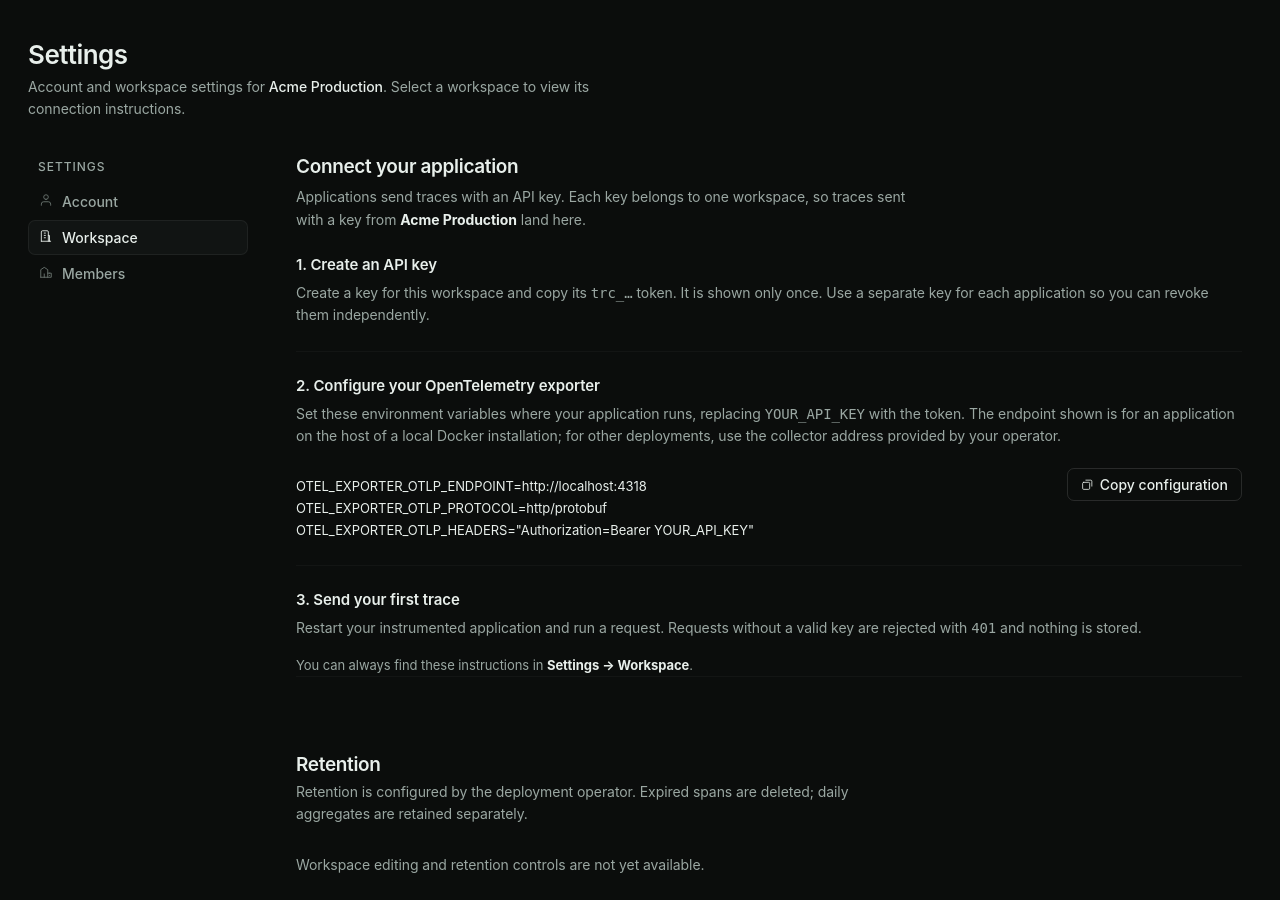
change password › submits the current and new password, keeps the renewed session and shows confirmation
This screenshot has width=1280, height=900.
Click the button "Account" at (138, 202), box [28,184,248,219]
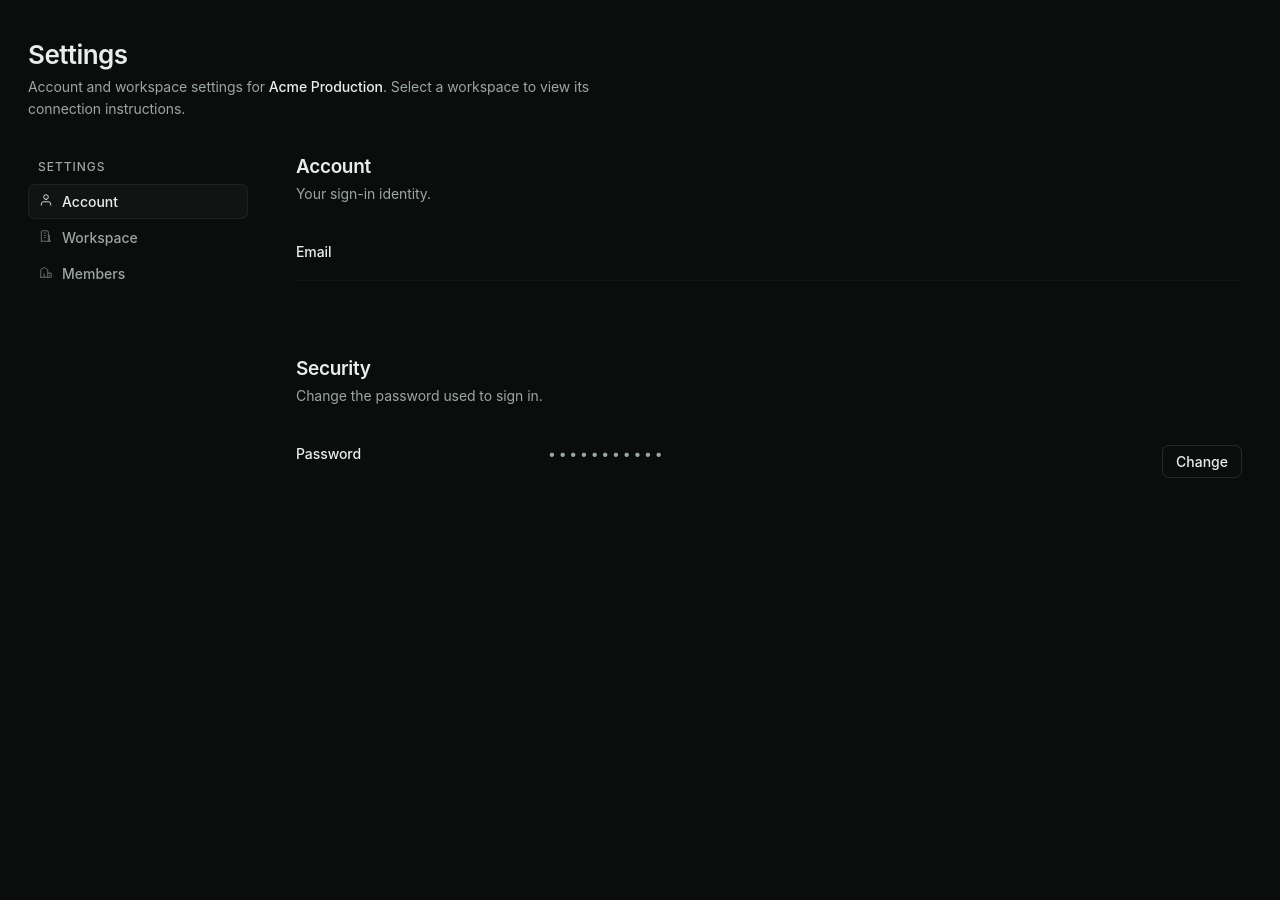
Click the button "Change" at (1202, 461), box [1162,445,1242,478]
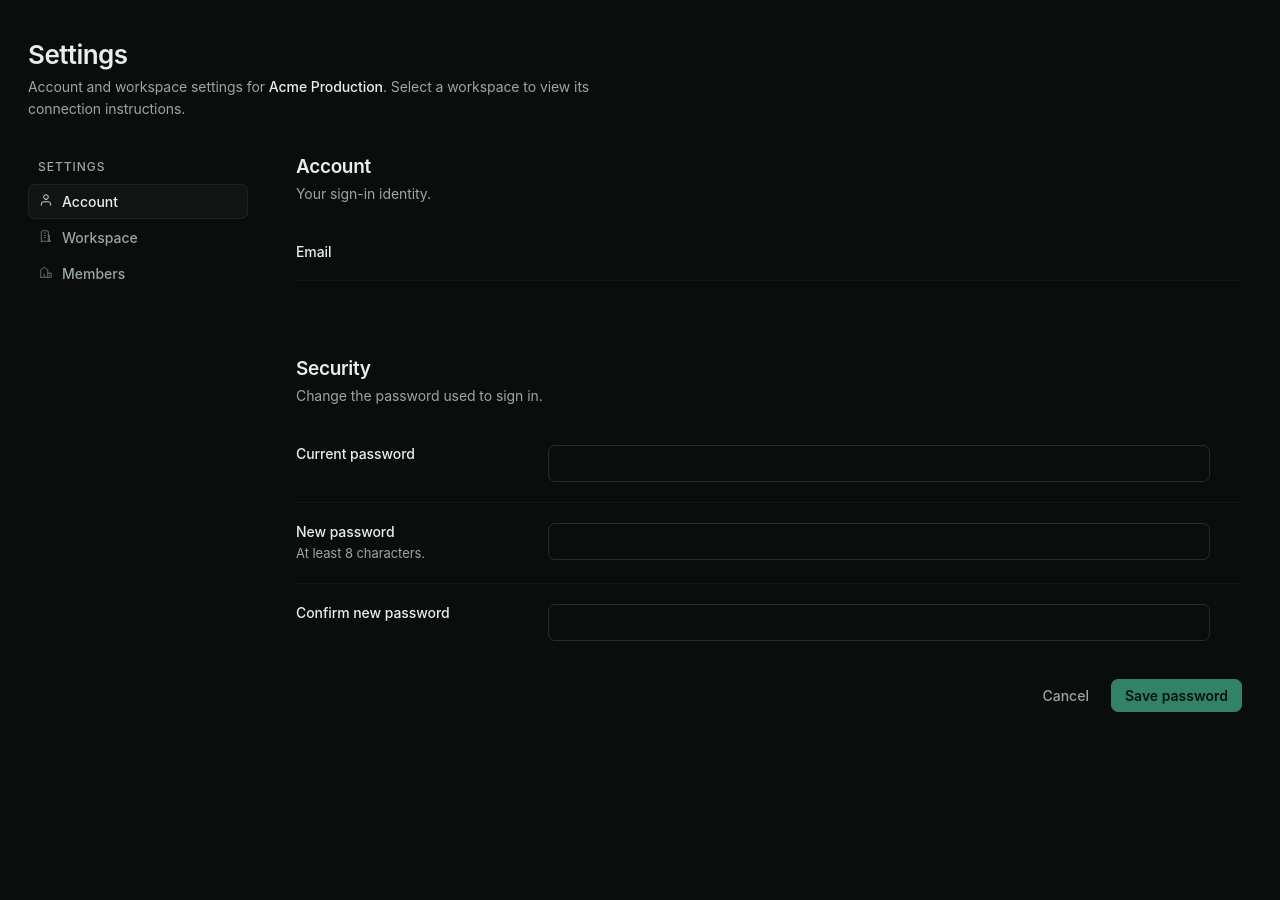
Type "old-pass" into the password field named "Current password" at (879, 463), box [560,446,1198,481]
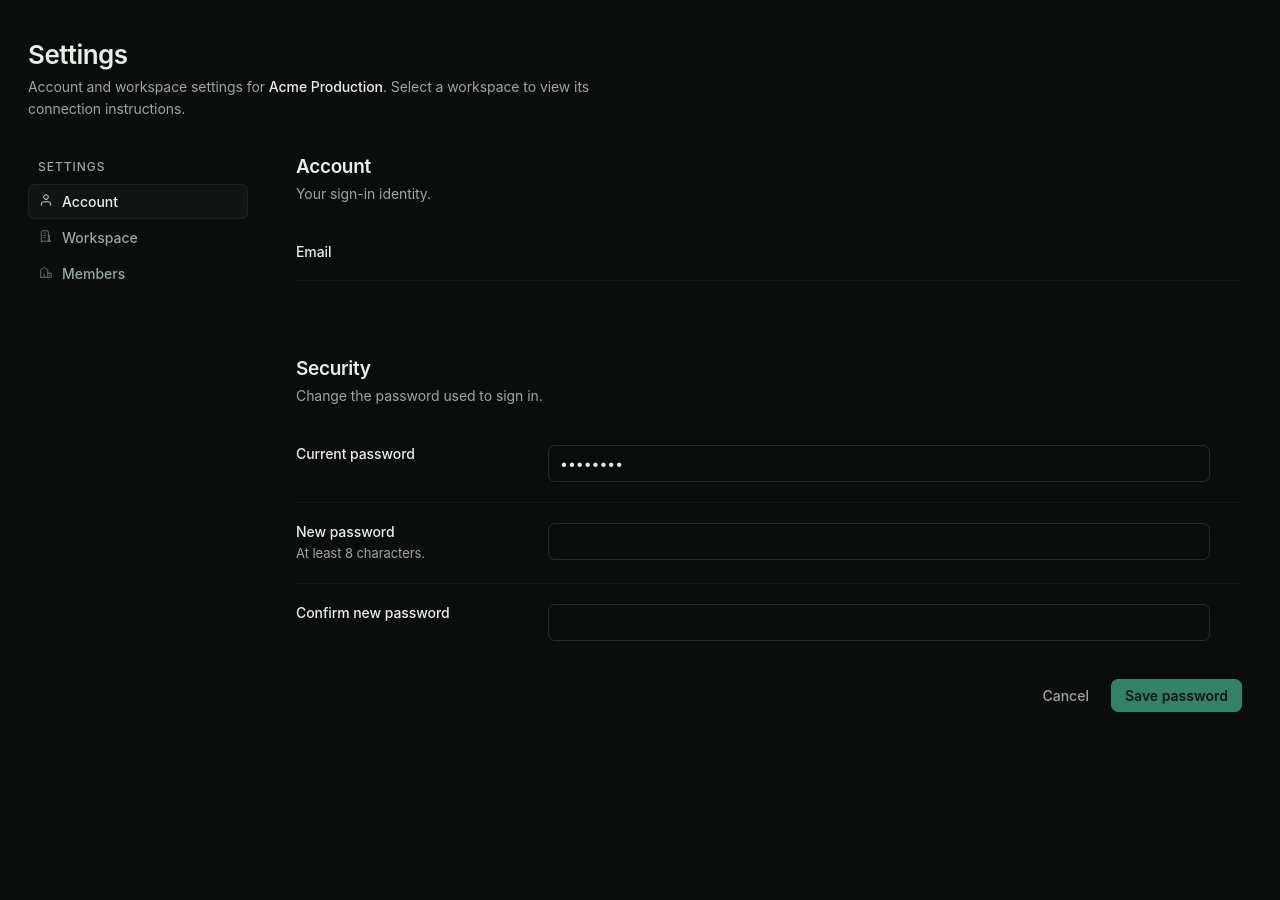
Type "new-password" into the password field named "New password" at (879, 541), box [560,524,1198,559]
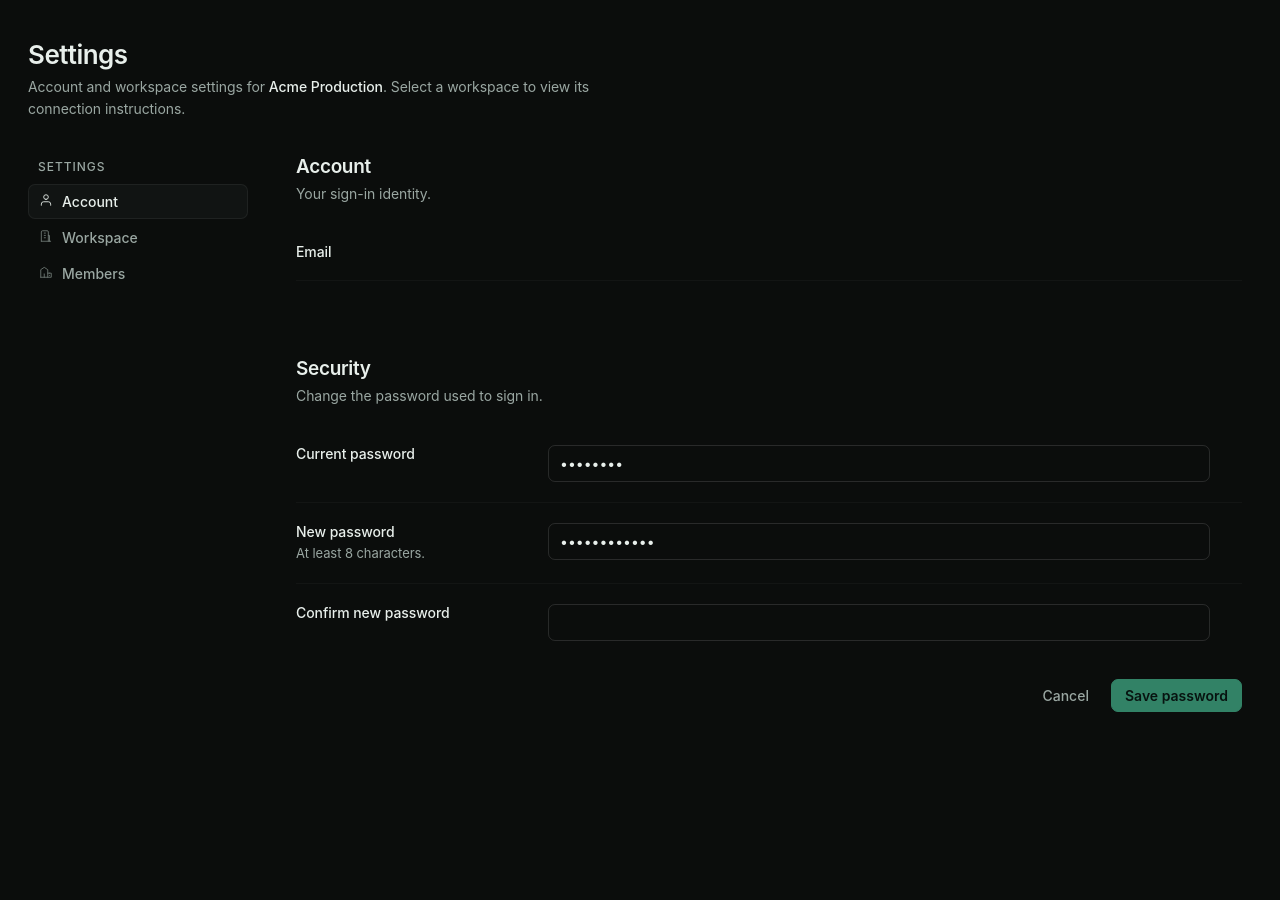
Type "new-password" into the password field named "Confirm new password" at (879, 623), box [560,605,1198,640]
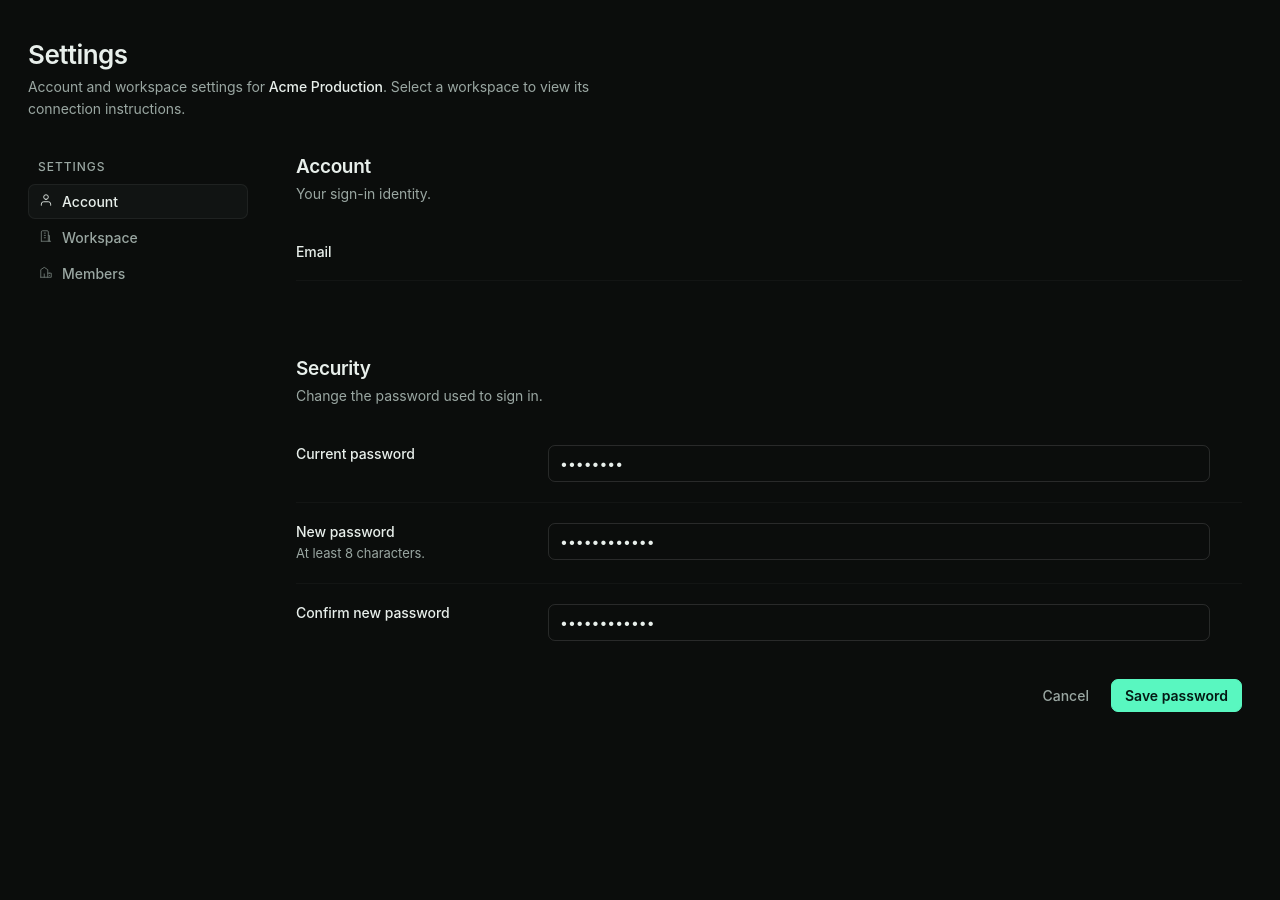
Click the button "Save password" at (1176, 696), box [1111,679,1242,712]
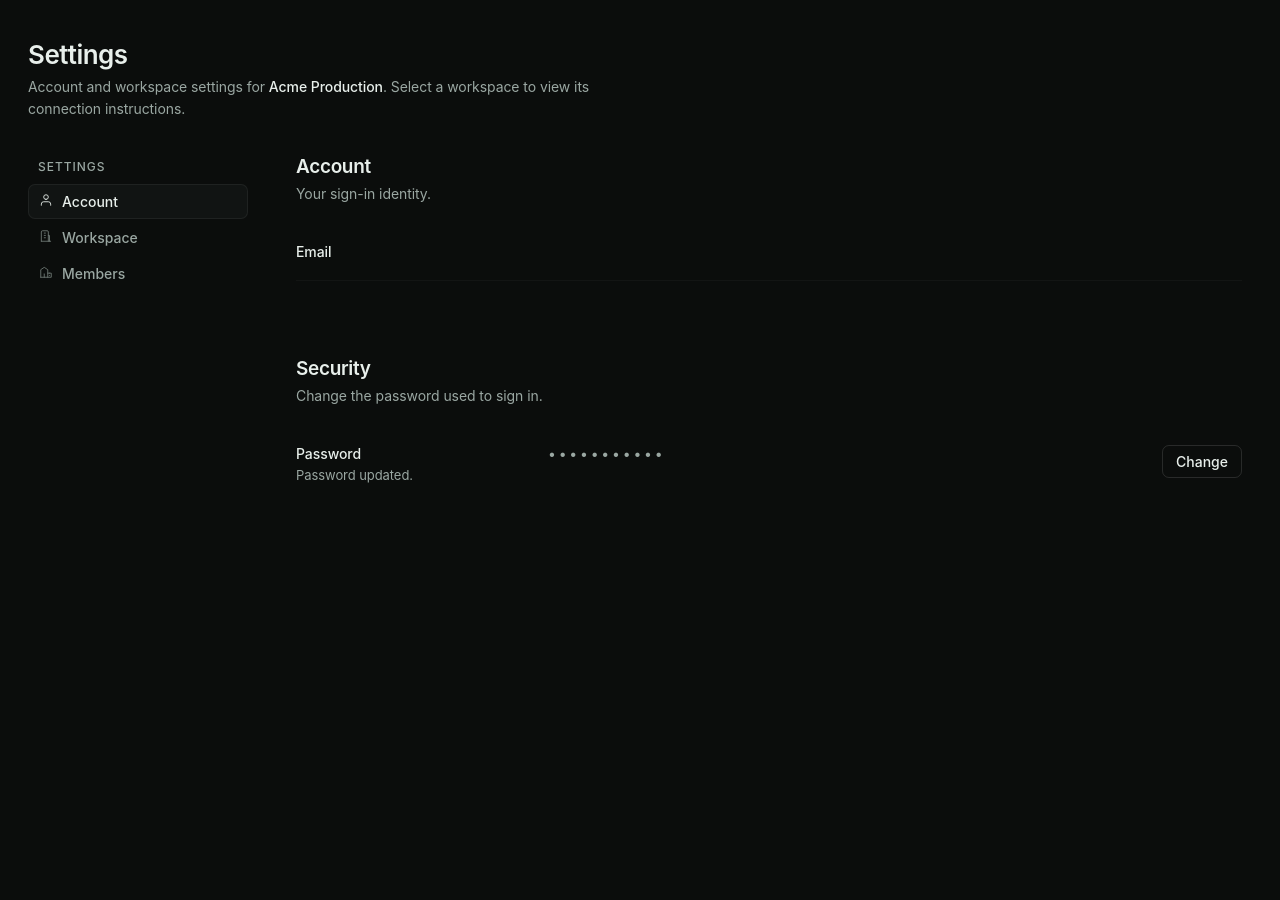
Expected: the text "Password updated." is shown, [296,467,413,483]
